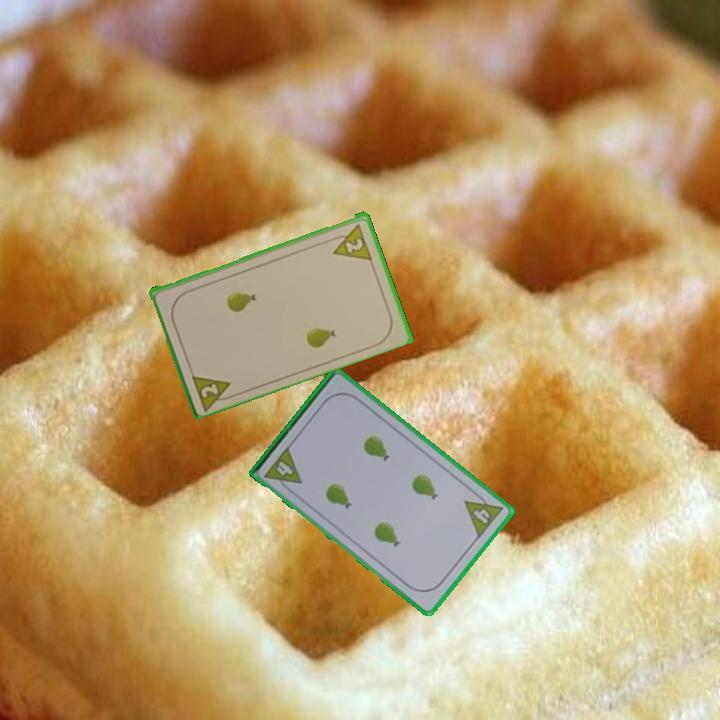2p: (326, 220, 375, 263), (197, 379, 222, 400)
4p: (461, 487, 506, 541), (261, 443, 305, 496)
